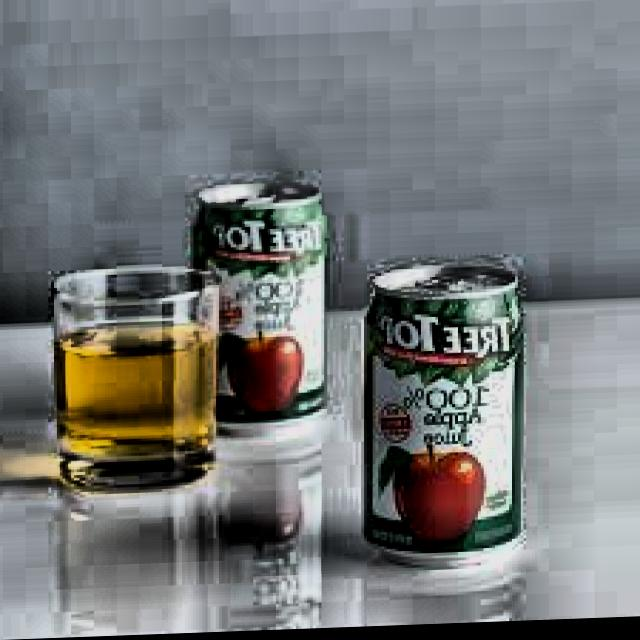can: (354, 254, 530, 579), (185, 173, 333, 446)
